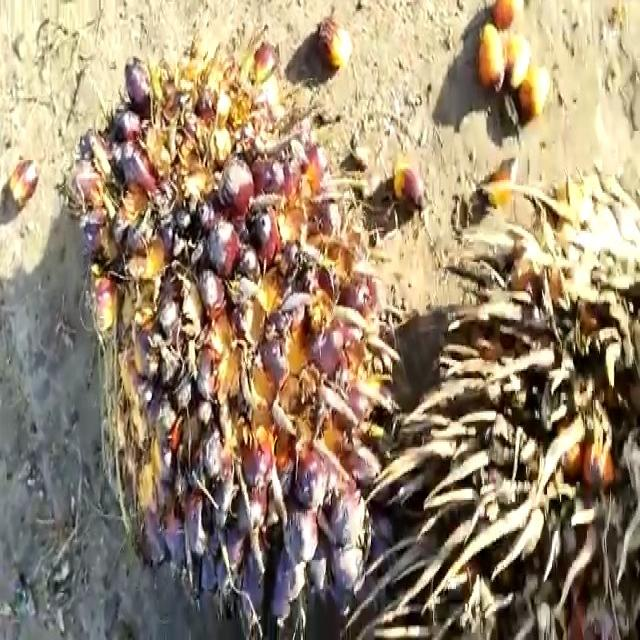palm oil: (74, 51, 420, 640)
